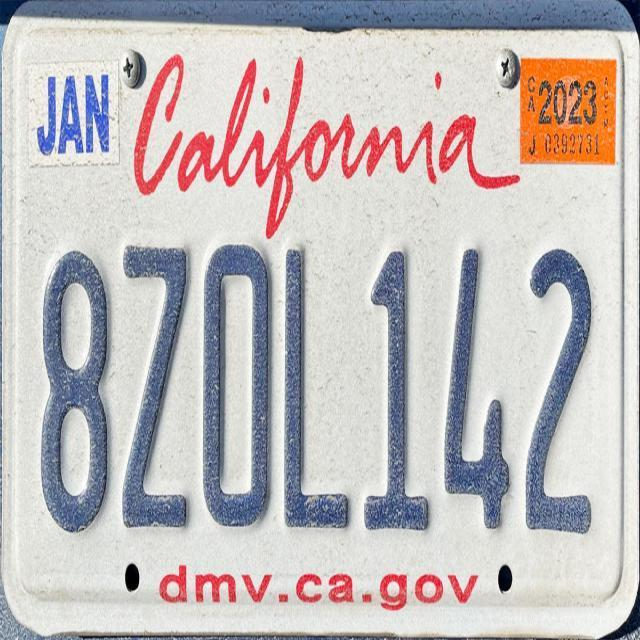Plat: (7, 3, 640, 636)
